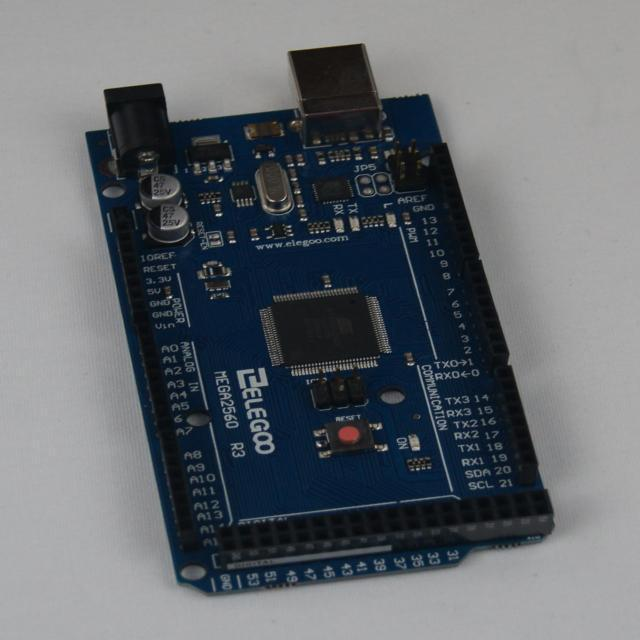Arduino Mega 2560 -Blue-: (88, 45, 554, 593)
